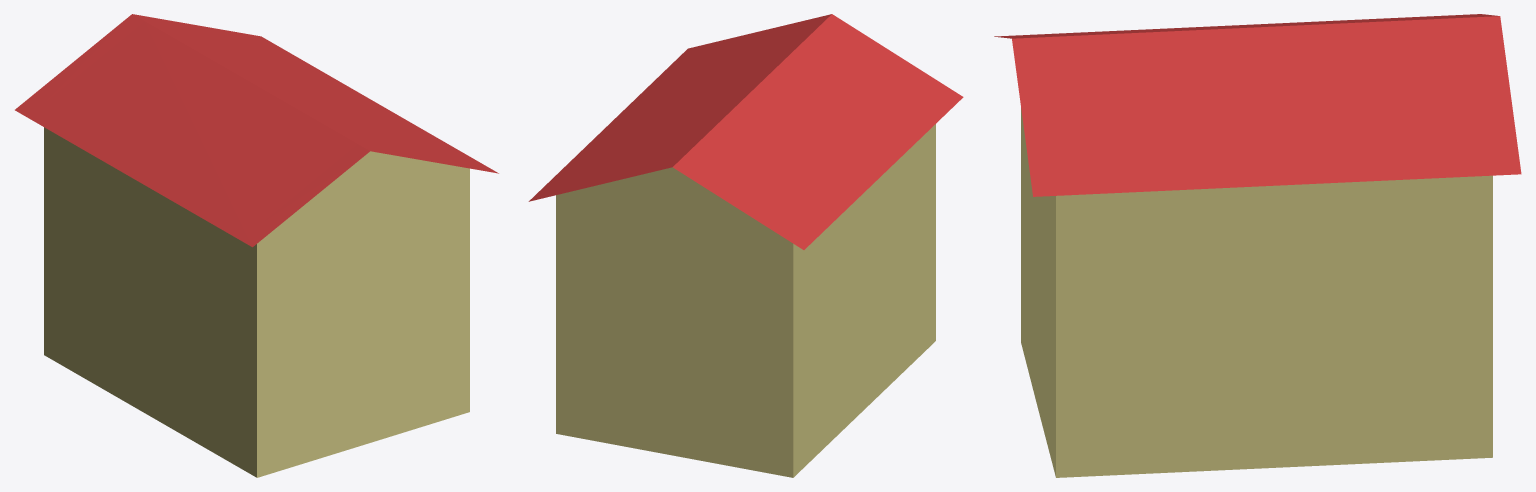
3 views of the same model, side by side, from view 1: azimuth 30°, elevation 25°; view 2: azimuth 150°, elevation 25°; view 3: azimuth 270°, elevation 25° (orthographic). The views are drawn at different scales.
Size of the model in its own units: 12.3 by 15.32 by 11.8.
